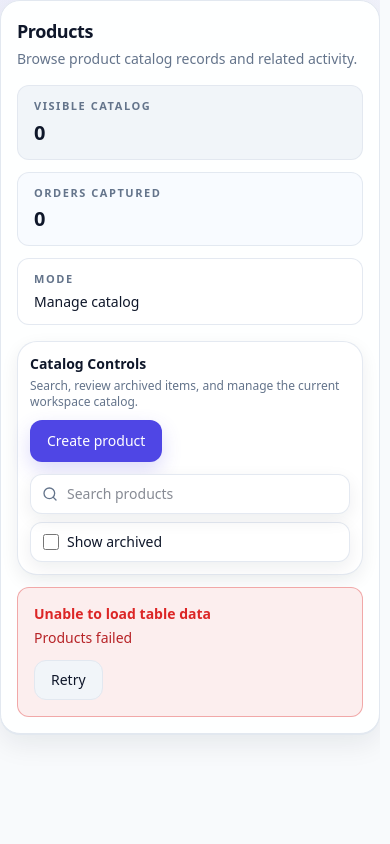
AdminProductsPage › shows the error state and retries loading products
The width and height of the screenshot is (390, 844).
Expected: the text "Products failed" is shown, [34,628,132,646]
Click the button "Retry" at (68, 680), box [34,660,103,700]
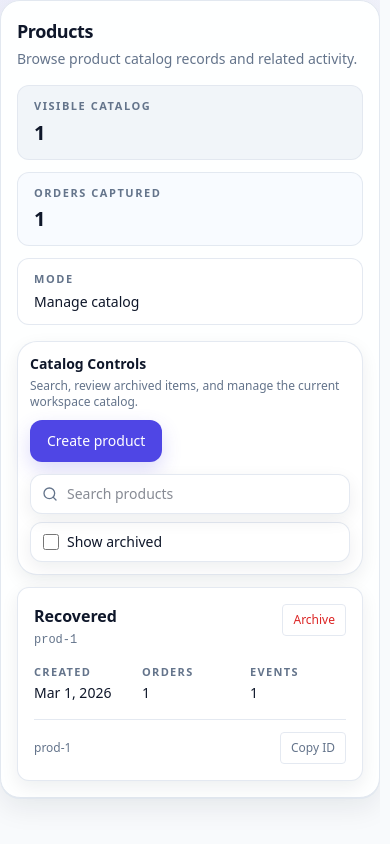
Now the text "Recovered" is shown, box [34,604,117,628]
